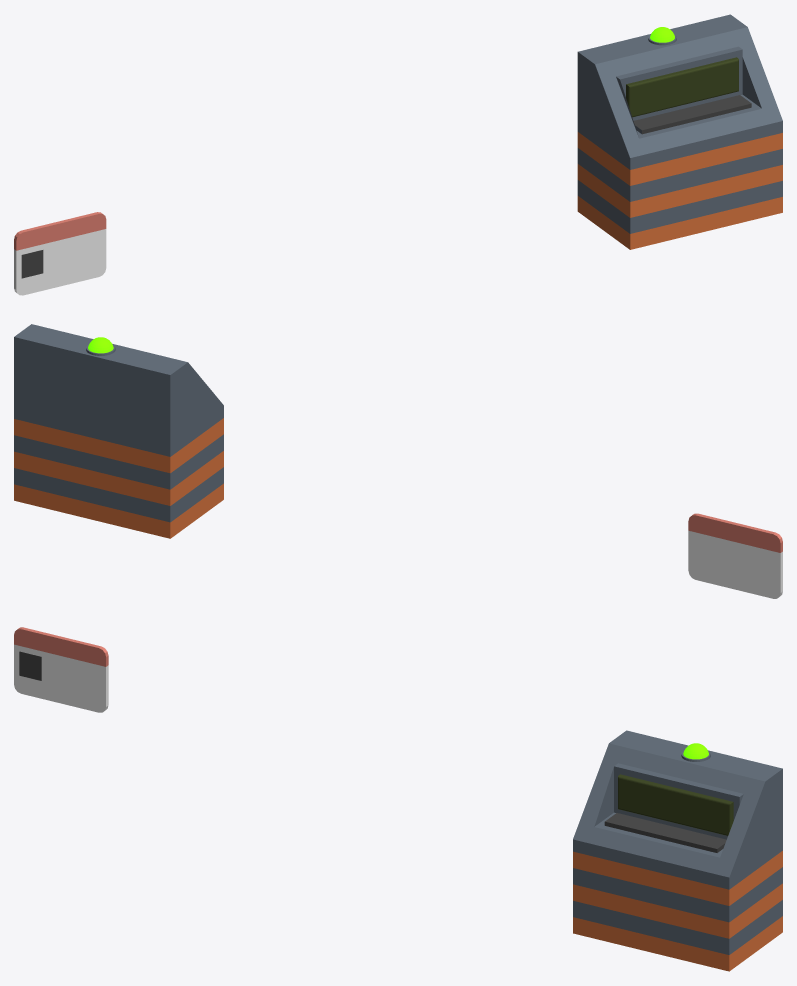
Rendered from props.glb.
3 views of the same model, one above another, from view 1: azimuth 30°, elevation 25°; view 2: azimuth 150°, elevation 25°; view 3: azimuth 330°, elevation 25° (orthographic). The views are drawn at different scales.
Visible parts, largest first — view 1: Cube.009, Cube.008; view 2: Cube.009, Cube.008; view 3: Cube.009, Cube.008.
Part boxes in pixels (box(x1,y1,x2,y2)): Cube.009: box(577, 14, 782, 249); Cube.008: box(14, 212, 106, 295); Cube.009: box(14, 324, 223, 538); Cube.008: box(688, 513, 782, 598); Cube.009: box(573, 730, 782, 971); Cube.008: box(14, 627, 108, 712).
Bounding box in the file's own units: 4.79 × 1.07 × 0.5938.
